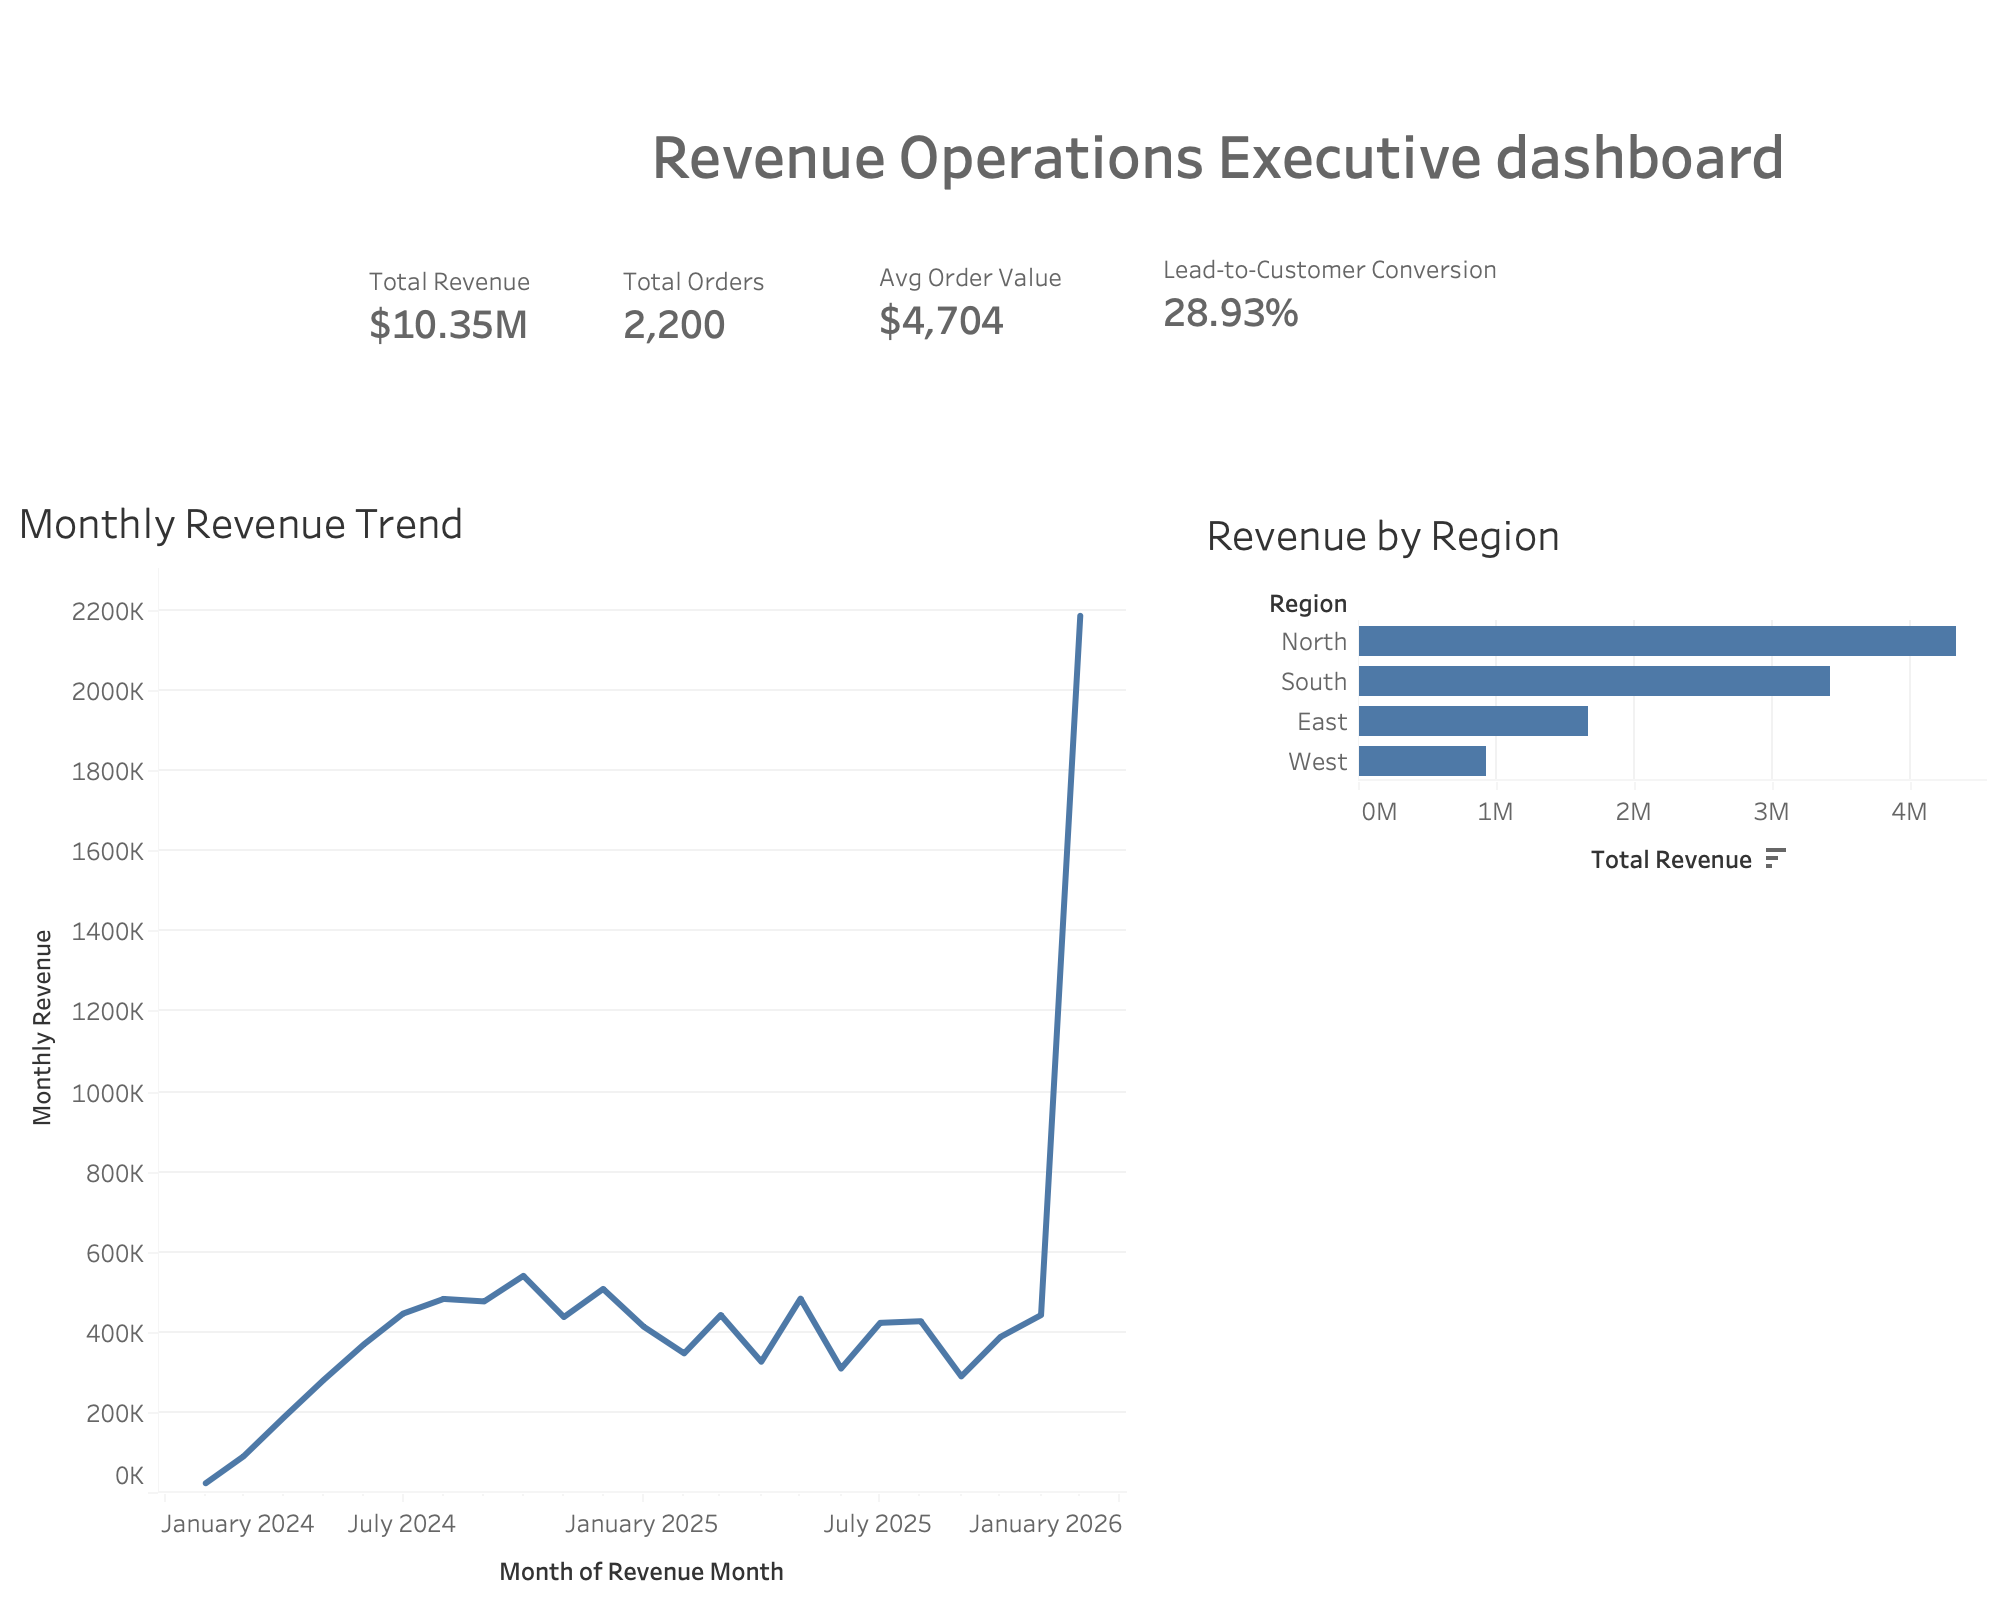

The page's visual inventory and layout, read from the dashboard file:
{"tool":"tableau","page":{"name":"Revenue Operations Executive Overview","canvas":[1000,800],"ordinal":0},"visuals":[{"type":"text","box":[308,37,603,80]},{"type":"text","box":[579,126,173,43]},{"type":"text","box":[182,129,100,48]},{"type":"text","box":[437,130,100,43]},{"type":"text","box":[309,132,100,43]},{"type":"worksheet","title":"Monthly Revenue Trend","mark":"Line","rows":["monthly_revenue"],"cols":["revenue_month"],"box":[5,241,558,560]},{"type":"worksheet","title":"Revenue by Region","mark":"Automatic","rows":["region"],"cols":["total_revenue"],"box":[599,247,394,551]}]}

Visuals, with their boxes in screenshot pixels (x1, y1, x2, y2), scaled from the page's 1000x800 canvas onto the 2000x1600 screenshot:
text: {"left": 616, "top": 74, "right": 1822, "bottom": 234}
text: {"left": 1158, "top": 252, "right": 1504, "bottom": 338}
text: {"left": 364, "top": 258, "right": 564, "bottom": 354}
text: {"left": 874, "top": 260, "right": 1074, "bottom": 346}
text: {"left": 618, "top": 264, "right": 818, "bottom": 350}
"Monthly Revenue Trend" worksheet (Line marks): {"left": 10, "top": 482, "right": 1126, "bottom": 1599}
"Revenue by Region" worksheet: {"left": 1198, "top": 494, "right": 1986, "bottom": 1596}
